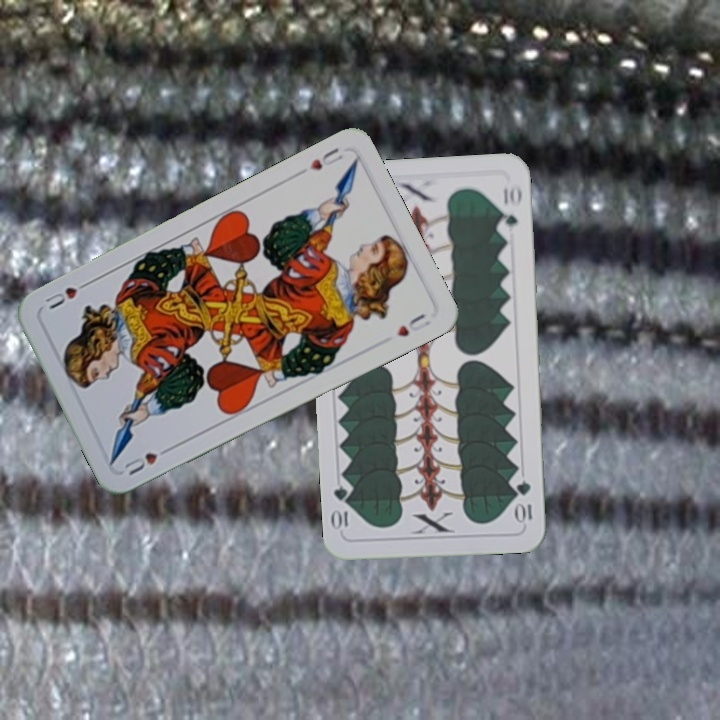G10: (513, 477, 535, 526)
HU: (120, 442, 174, 478), (305, 143, 346, 173)
